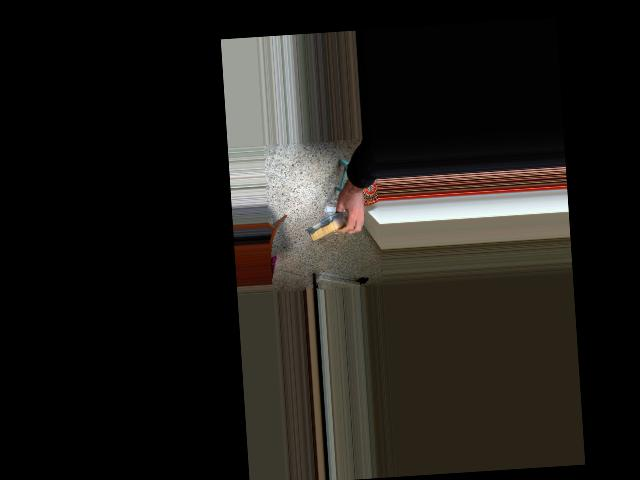cheese: (301, 198, 371, 256)
